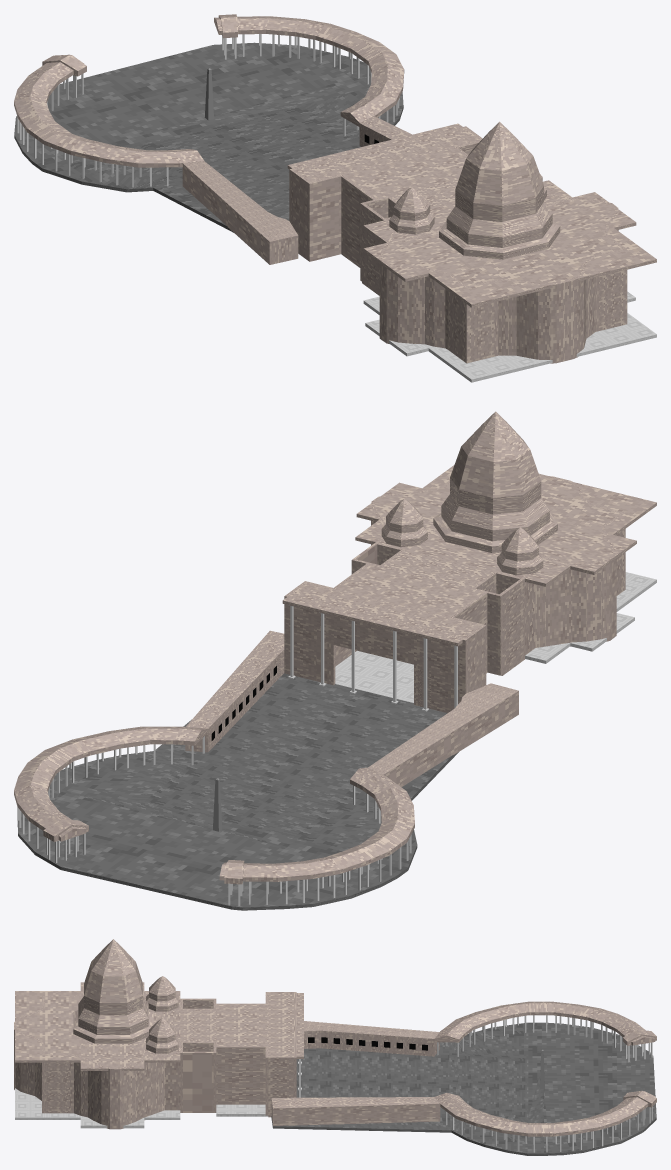
File: StPetersBasilica.fbx
3 views of the same model, one above another, from view 1: azimuth 30°, elevation 25°; view 2: azimuth 150°, elevation 25°; view 3: azimuth 270°, elevation 25° (orthographic). The views are drawn at different scales.
Visible parts, largest first — view 1: OutsideFloor, Cube.001, Roof.004, NorthCurveWallE, EastFrontLoopBuilding, WestFrontLoopBuilding, Roof.005, RightWallBuilding, EastCurveWall, OutsideFloorRamp, Roof, Roof.001 (+14 smaller); view 2: OutsideFloor, OutsideFloorRamp, Cube.001, SouthExWallS, EastCurveWall, EastFrontLoopBuilding, WestFrontLoopBuilding, RightWallBuilding, Roof.005, Roof, LeftWallBuilding, Roof.004 (+11 smaller); view 3: OutsideFloor, OutsideFloorRamp, WestCurveWall, Cube.001, LeftWallBuilding, Roof.004, WestFrontLoopBuilding, EastFrontLoopBuilding, RightWallBuilding, WestExWallW1, Roof.001, Roof (+14 smaller).
Boxes of the visible parts, x1,y1,x2,y2 form: OutsideFloor: (14,42,403,192); Cube.001: (439,121,560,259); Roof.004: (428,228,656,307); NorthCurveWallE: (494,255,598,363); EastFrontLoopBuilding: (14,54,204,167); WestFrontLoopBuilding: (214,14,404,126); Roof.005: (363,192,636,281); RightWallBuilding: (182,161,298,264); EastCurveWall: (379,220,450,349); OutsideFloorRamp: (153,137,360,232); Roof: (287,123,480,181); Roof.001: (343,147,466,199); OutsideFloor: (17,751,417,910); OutsideFloorRamp: (155,673,458,802); Cube.001: (433,411,557,552); SouthExWallS: (284,595,467,713); EastCurveWall: (522,525,616,659); EastFrontLoopBuilding: (219,767,414,884); WestFrontLoopBuilding: (14,726,207,841); RightWallBuilding: (368,683,518,786); Roof.005: (356,482,636,574); Roof: (282,583,481,646); LeftWallBuilding: (185,630,284,752); Roof.004: (423,465,656,535); OutsideFloor: (449,1022,656,1155); OutsideFloorRamp: (271,1042,451,1132); WestCurveWall: (70,1052,180,1129); Cube.001: (73,939,153,1043); LeftWallBuilding: (271,1097,440,1125); Roof.004: (15,991,80,1062); WestFrontLoopBuilding: (435,1090,656,1136); EastFrontLoopBuilding: (434,1001,656,1045); RightWallBuilding: (304,1021,439,1056); WestExWallW1: (216,1046,268,1104); Roof.001: (216,1004,268,1046); Roof: (268,993,303,1058).
Bounding box in the file's own units: 237 × 130 × 488.
